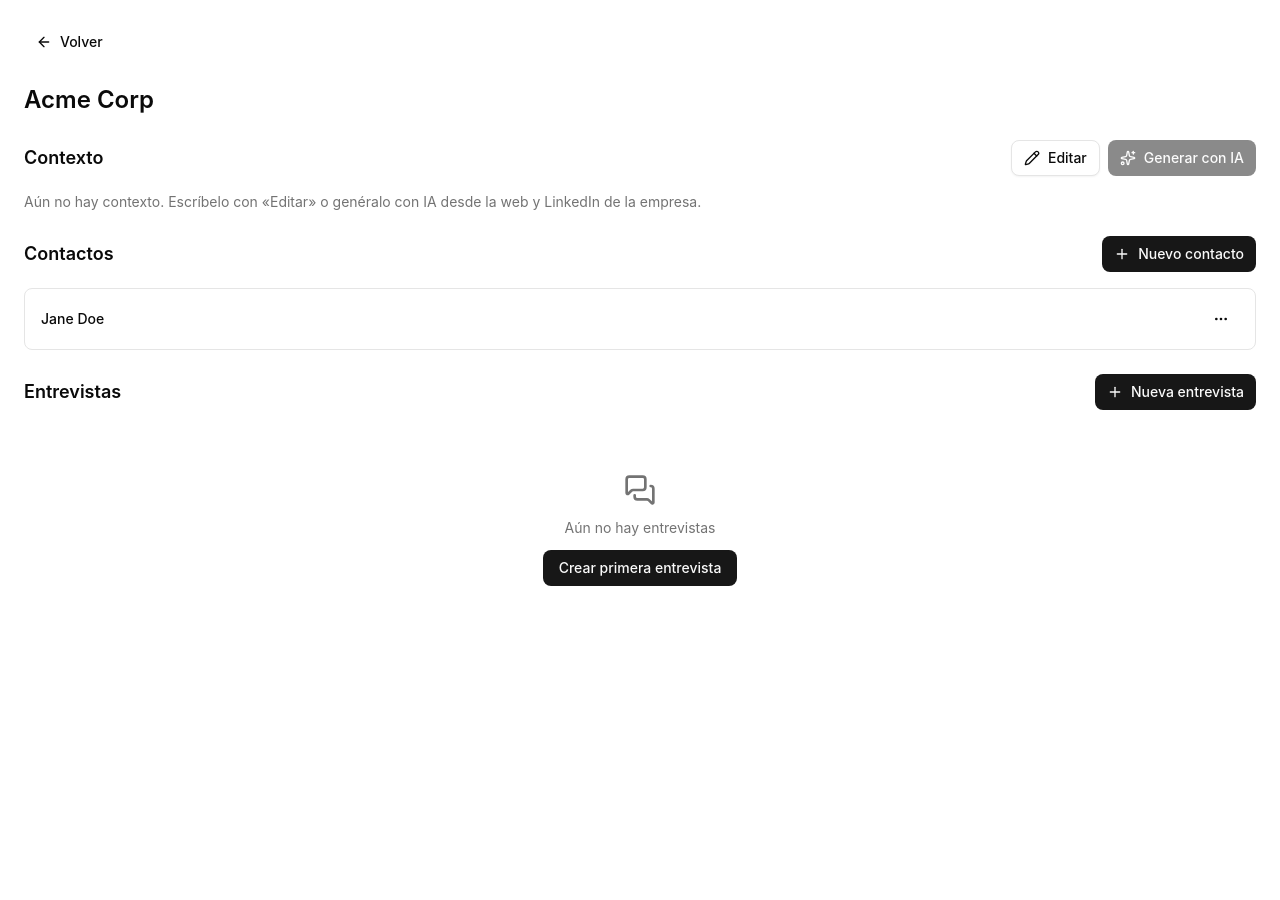
CompanyDetailPage (entrevistas) › creating an interview › opens the "Nueva entrevista" dialog with focused title, the Participantes checklist and the optional template select
Click the button "Nueva entrevista".
click(1176, 392)  # box [1095,374,1256,410]
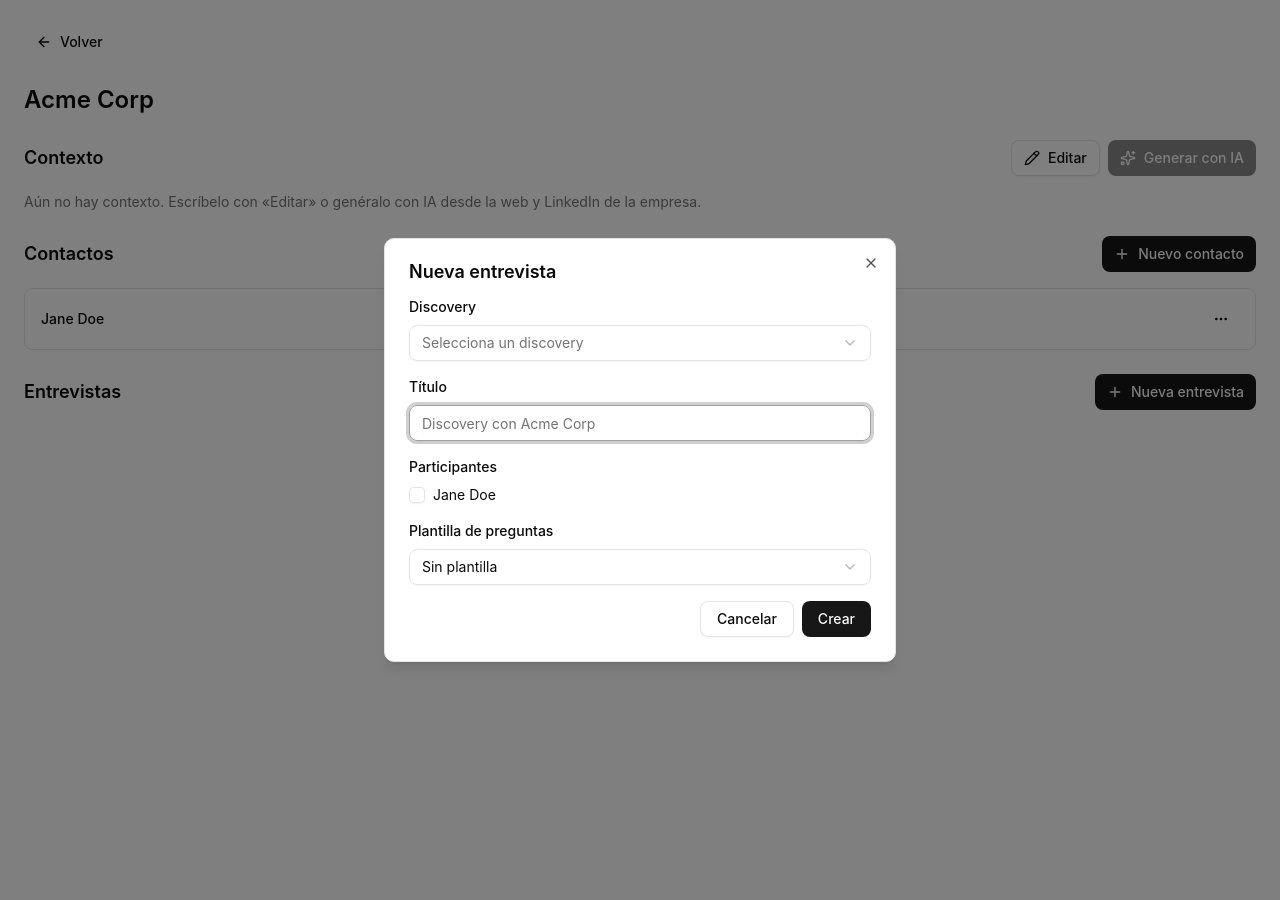
Expected: the dialog is shown, [384,238,896,662]
Expected: the heading "Nueva entrevista" is shown, [409,261,556,282]
Expected: the text "Participantes" is shown, [409,458,497,475]
Click the dropdown named "Plantilla de preguntas".
click(460, 566)  # box [409,549,871,585]
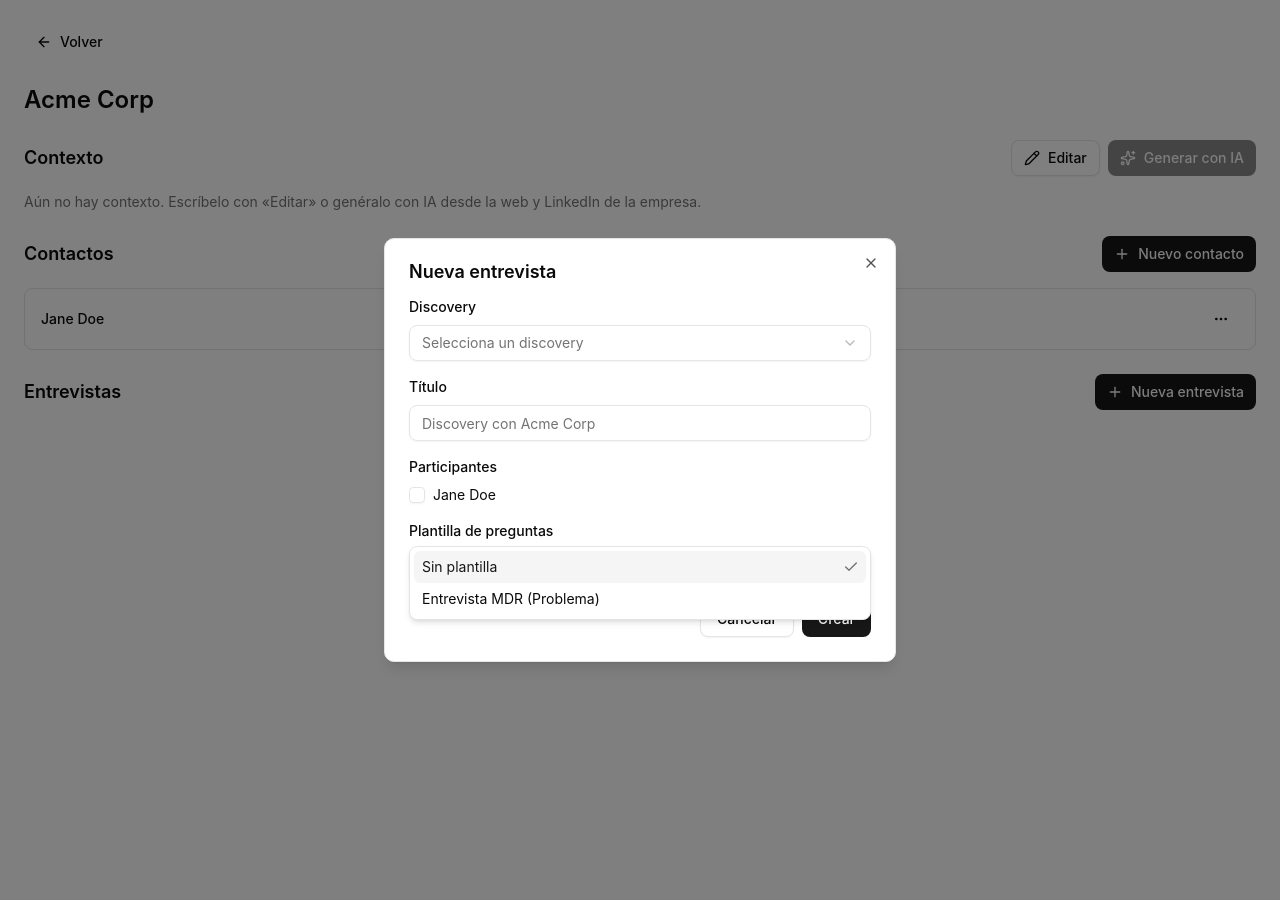
Expected: the option "Sin plantilla" is shown, [414,551,866,583]
Expected: the option "Entrevista MDR (Problema)" is shown, [422,590,600,607]
